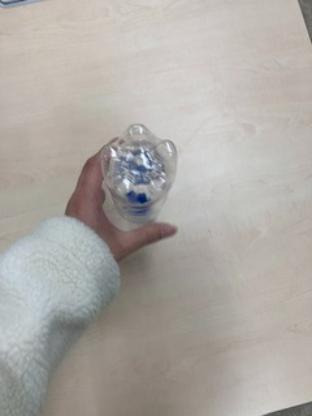Plastic Bottle: (100, 118, 178, 235)
